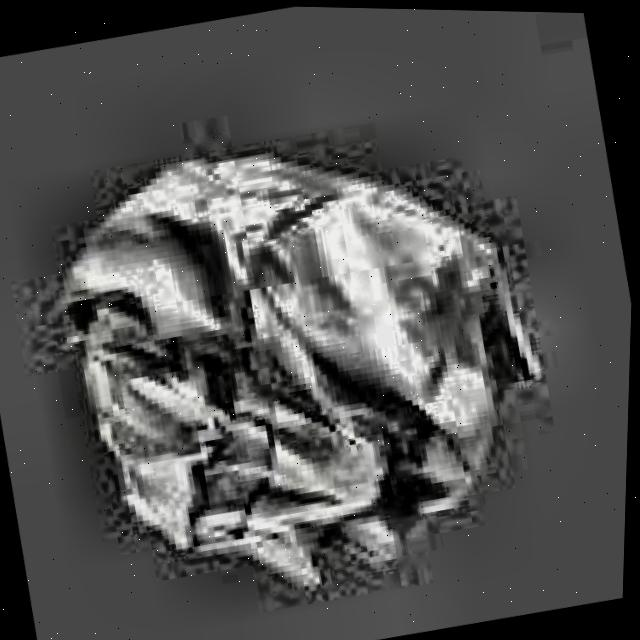paper: (16, 92, 582, 629)
